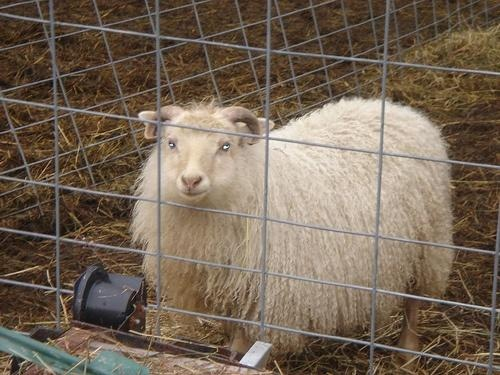sheep: (133, 96, 459, 365)
